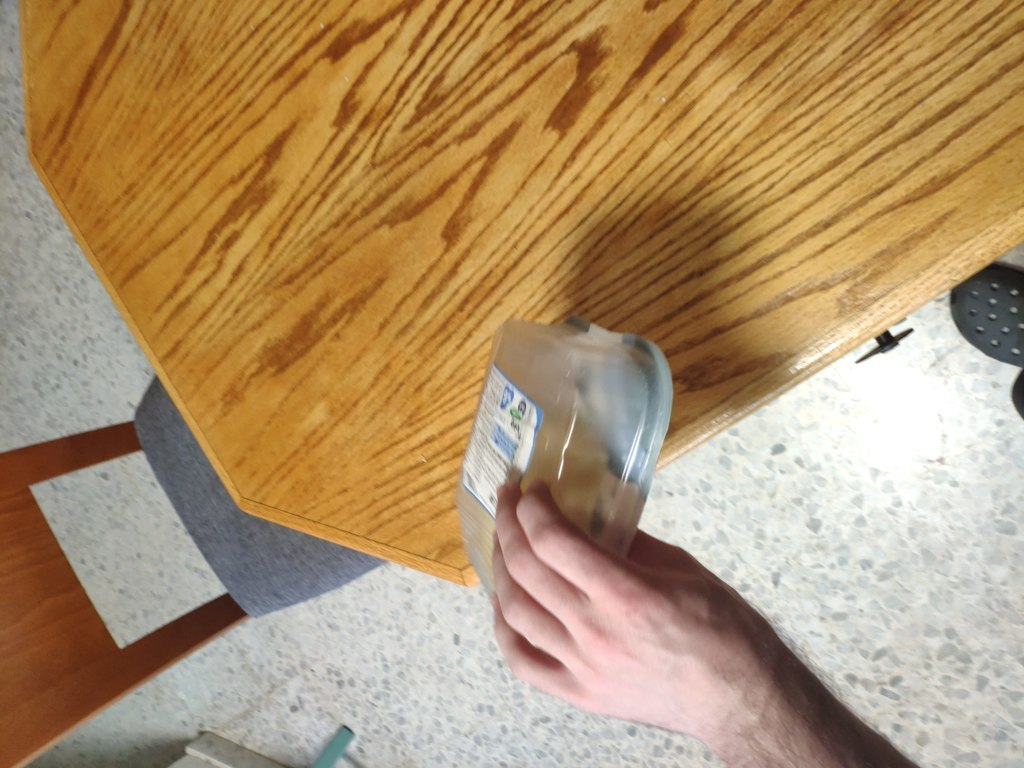Cheese: (447, 381, 698, 682)
